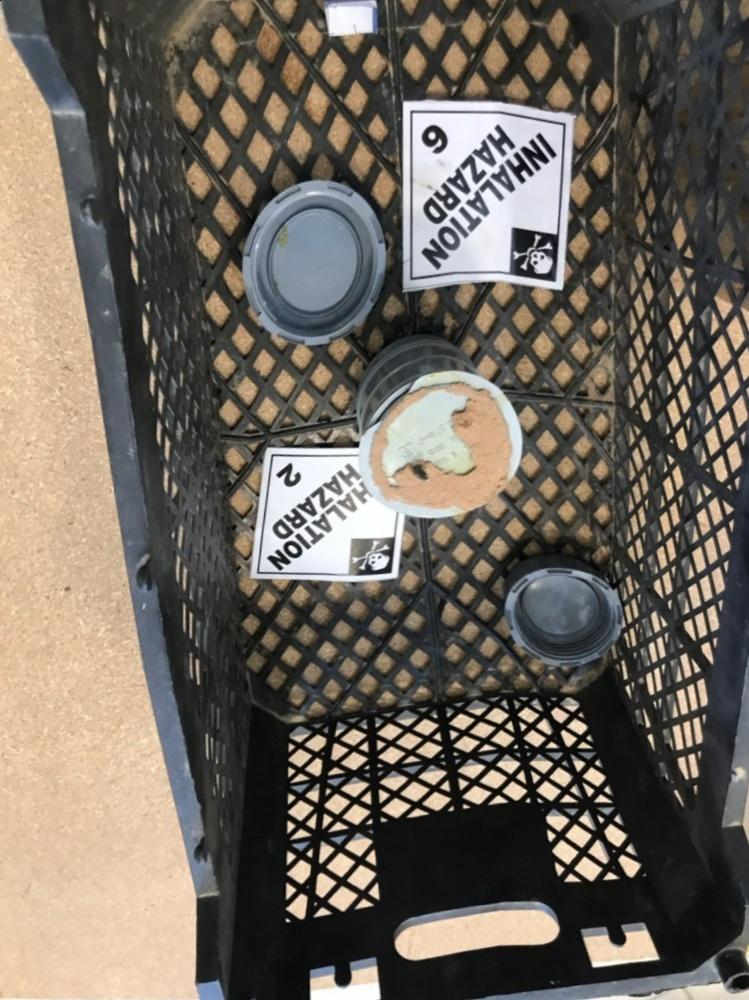poison: (404, 105, 577, 296), (247, 432, 415, 590)
